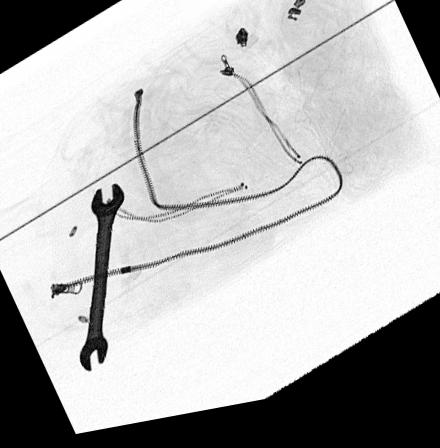Wrench: (80, 183, 126, 376)
